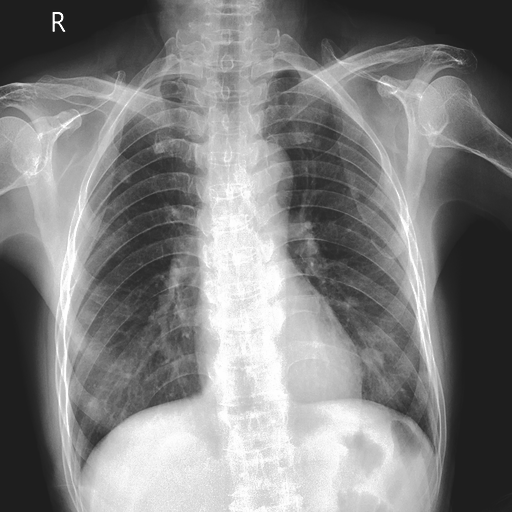Consolidation: (239, 138, 293, 225)
Pulmonary fibrosis: (159, 337, 181, 360), (360, 349, 384, 369), (72, 334, 88, 353), (82, 309, 98, 325), (118, 171, 131, 185), (348, 295, 360, 307), (177, 374, 188, 387), (384, 333, 395, 344), (349, 190, 359, 199)
